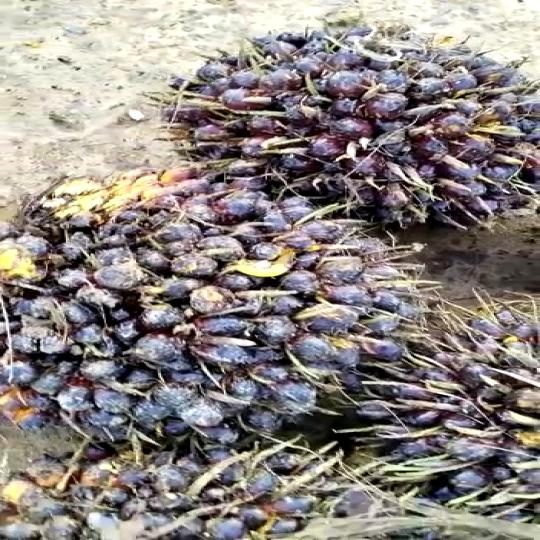mentah: (1, 168, 426, 440), (154, 12, 540, 241)
